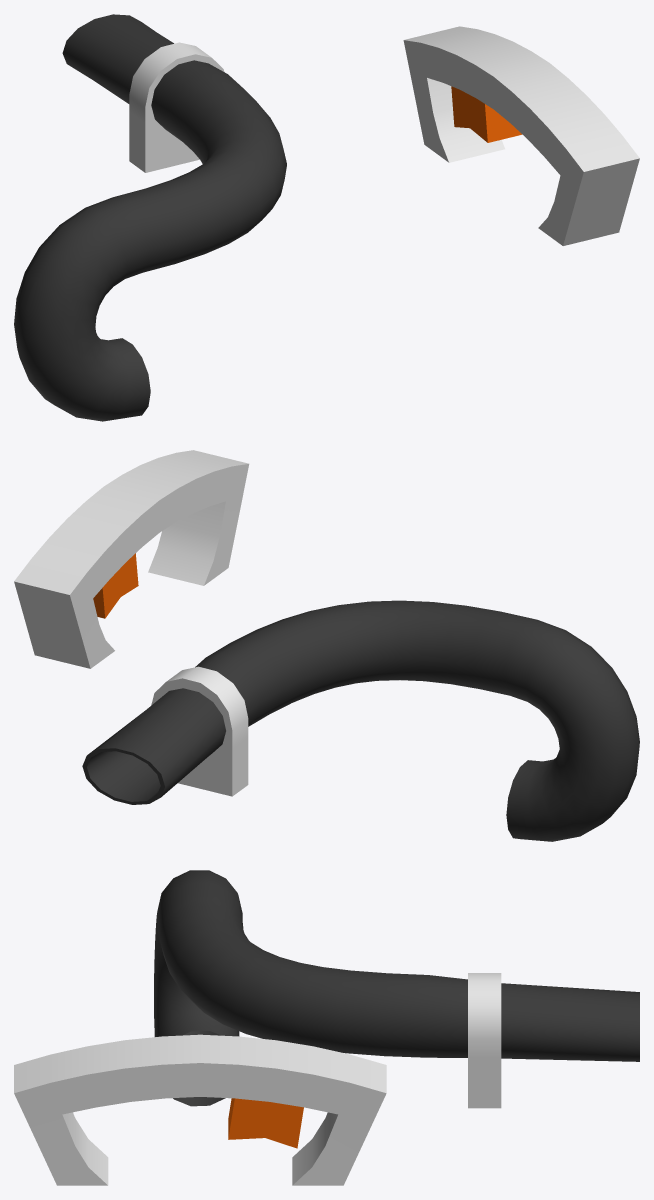
File: leafblower.fbx
The picture shows the model from 3 angles, top to bottom: view 1: azimuth 30°, elevation 25°; view 2: azimuth 150°, elevation 25°; view 3: azimuth 270°, elevation 25°; orthographic projection. The views are drawn at different scales.
Visible parts, largest first — view 1: Leafblower; view 2: Leafblower; view 3: Leafblower.
Boxes of the visible parts, x1,y1,x2,y2 form: Leafblower: (14, 14, 639, 421); Leafblower: (14, 450, 639, 841); Leafblower: (14, 870, 639, 1185).
Size of the model in its own units: 74.87 by 33.33 by 73.88.
